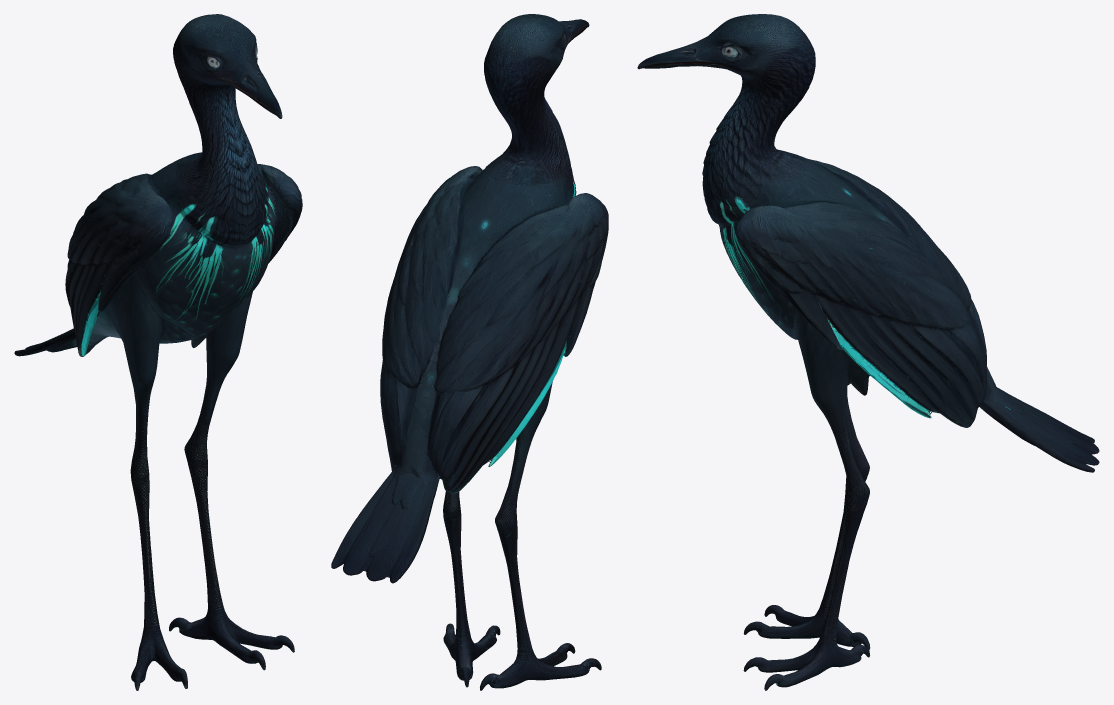
File: corvid_gull.glb
3 views of the same model, side by side, from view 1: azimuth 30°, elevation 25°; view 2: azimuth 150°, elevation 25°; view 3: azimuth 270°, elevation 25° (orthographic). The views are drawn at different scales.
Bounding box in the file's own units: 0.5396 × 1.9 × 1.25.
Materials: 1 (1 with a texture image).
